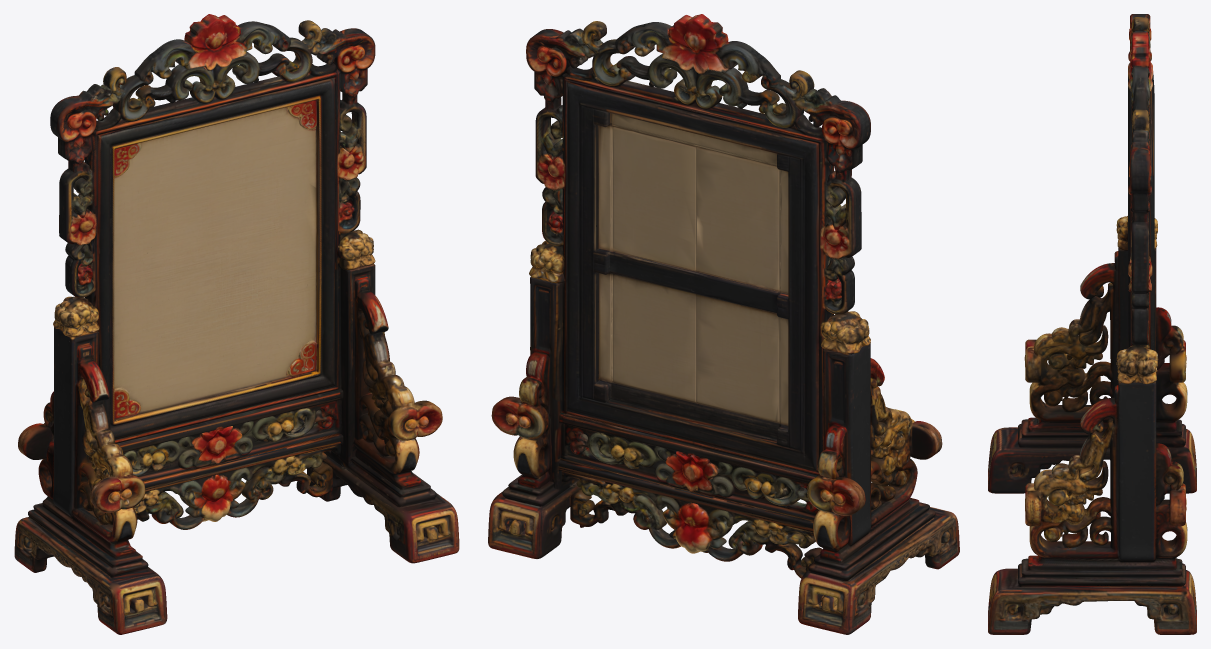
3 views of the same model, side by side, from view 1: azimuth 30°, elevation 25°; view 2: azimuth 150°, elevation 25°; view 3: azimuth 270°, elevation 25° (orthographic). The views are drawn at different scales.
Parts seen in each view (by area): view 1: node_0; view 2: node_0; view 3: node_0.
Boxes of the visible parts, x1,y1,x2,y2 form: node_0: [14, 14, 459, 634]; node_0: [488, 14, 959, 634]; node_0: [988, 14, 1196, 634].
Bounding box in the file's own units: 0.6634 × 0.9549 × 0.3489.
Materials: 1 (1 with a texture image).
